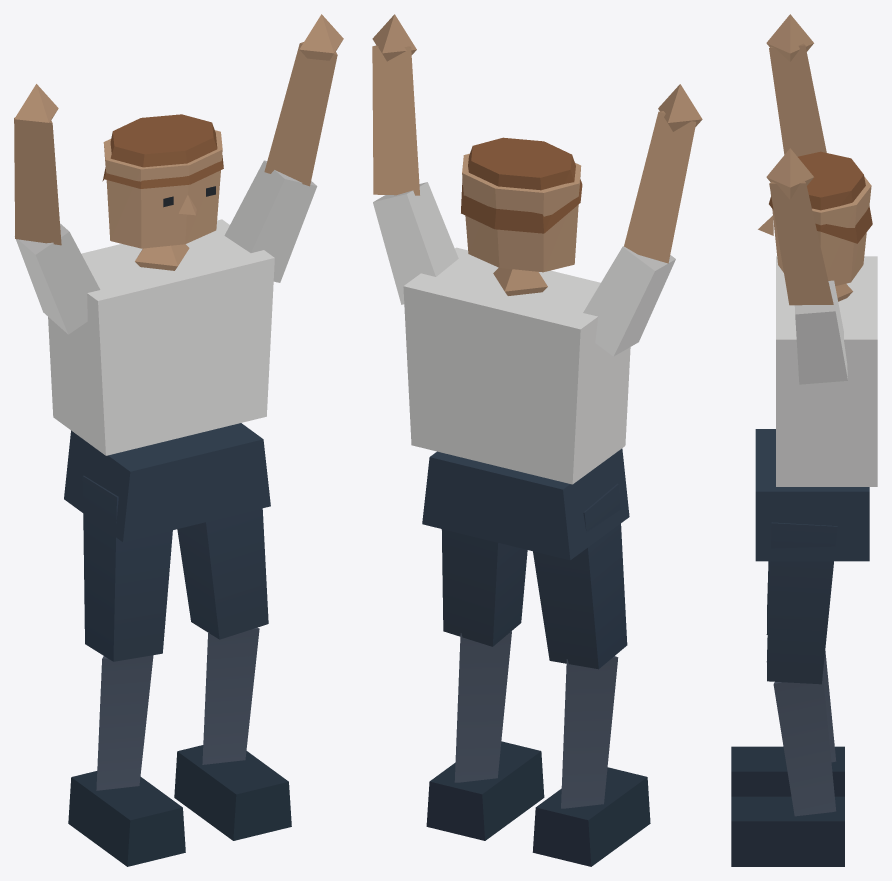
Rendered from fan-11.glb.
3 renders of one model, left to right at view 1: azimuth 30°, elevation 25°; view 2: azimuth 150°, elevation 25°; view 3: azimuth 270°, elevation 25°, orthographic. The views are drawn at different scales.
Visible parts, largest first — view 1: fan-11; view 2: fan-11; view 3: fan-11.
Part boxes in pixels (x1,y1,x2,y2): fan-11: [14, 14, 343, 866]; fan-11: [372, 14, 702, 866]; fan-11: [731, 14, 877, 866].
Size of the model in its own units: 0.902 by 2.03 by 0.36.
